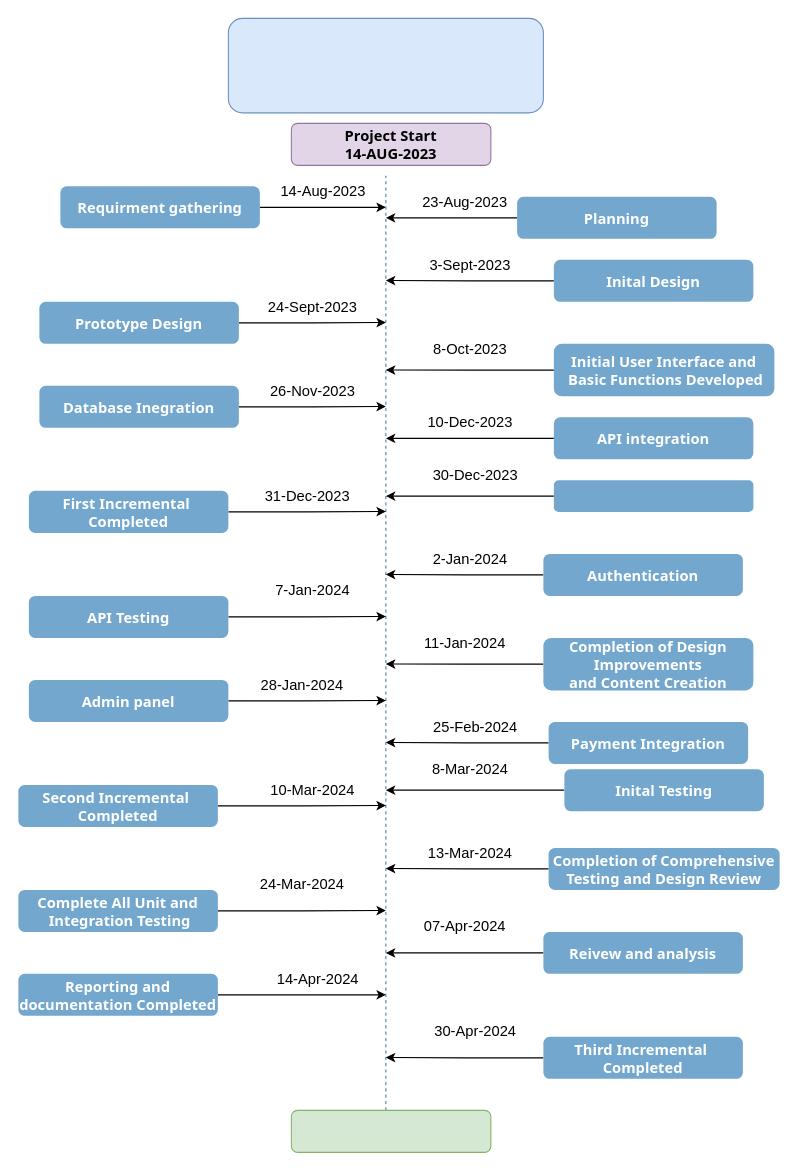
Image size: 797x1171. Some labels were removed from this diagram. The centre of each missing label's shape, as x and y in pixels:
"A Milestone For On Way Development" goes at (385,65).
"Final Submission" goes at (390,1130).
"Inital Testimg" goes at (653,495).
